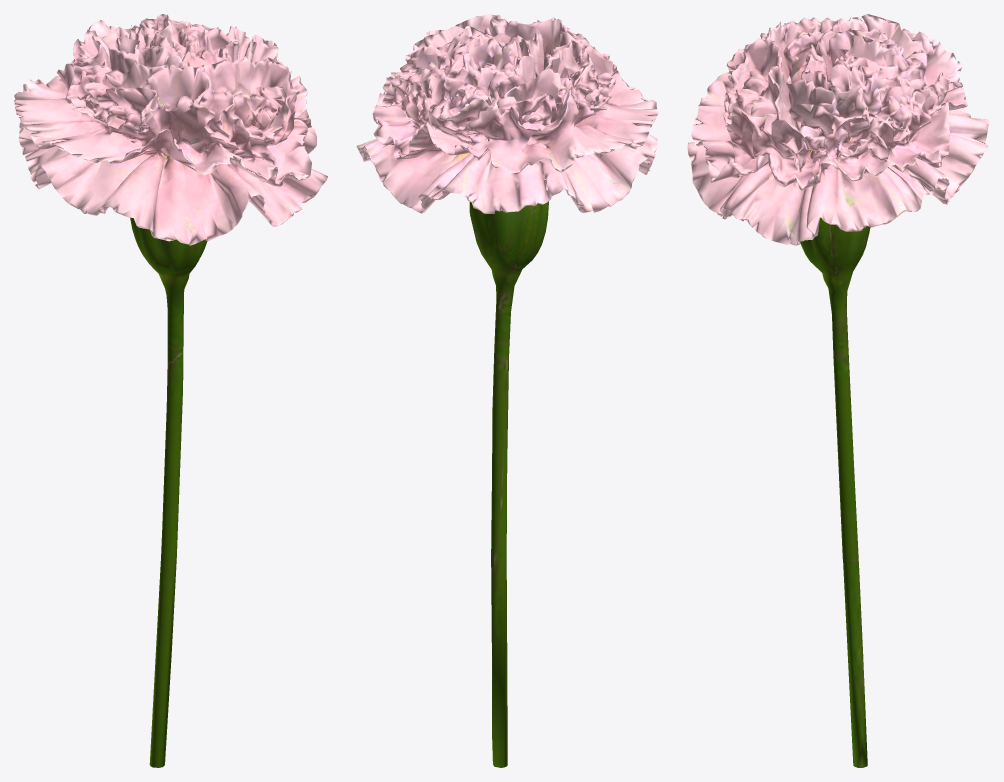
The model's file is carnation.glb.
3 views of the same model, side by side, from view 1: azimuth 30°, elevation 25°; view 2: azimuth 150°, elevation 25°; view 3: azimuth 270°, elevation 25° (orthographic). The views are drawn at different scales.
Size of the model in its own units: 0.7236 by 1.9 by 0.7067.
Materials: 1 (1 with a texture image).
